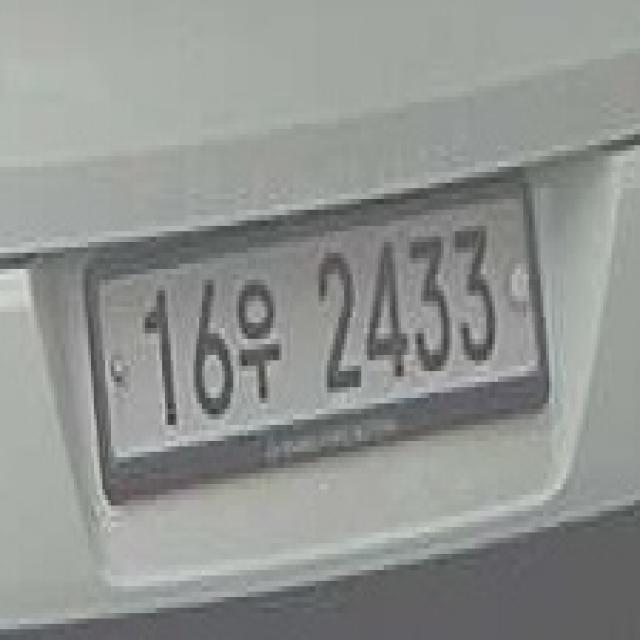1: (139, 280, 182, 441)
2: (313, 242, 364, 403)
3: (410, 220, 455, 376), (455, 215, 495, 366)
4: (364, 226, 410, 392)
6: (191, 269, 233, 436)
license_plate: (80, 167, 554, 516)
u: (236, 269, 285, 414)
